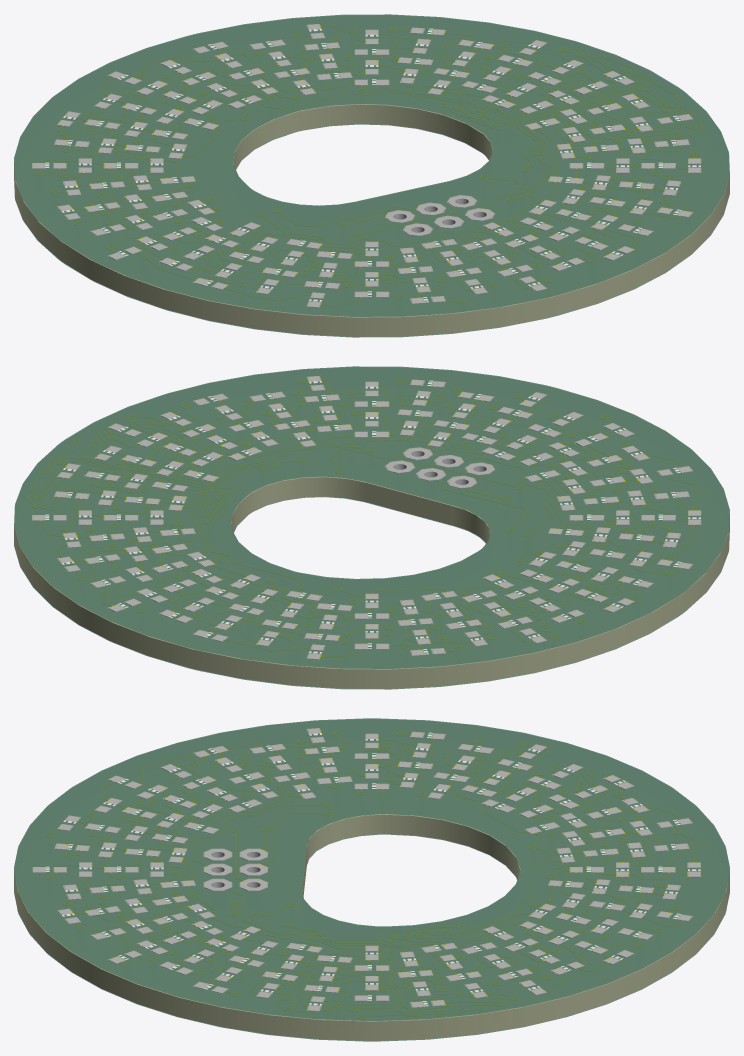
Rendered from do-or-donut-sao.glb.
3 renders of one model, top to bottom at view 1: azimuth 30°, elevation 25°; view 2: azimuth 150°, elevation 25°; view 3: azimuth 270°, elevation 25°, orthographic.
Visible parts, largest first — view 1: =>[0:1:1:7], =>[0:1:1:9], =>[0:1:1:2], =>[0:1:1:5]; view 2: =>[0:1:1:7], =>[0:1:1:9], =>[0:1:1:2], =>[0:1:1:5]; view 3: =>[0:1:1:7], =>[0:1:1:9], =>[0:1:1:2], =>[0:1:1:5].
Boxes of the visible parts, x1,y1,x2,y2 form: =>[0:1:1:7]: (14,14,729,337); =>[0:1:1:9]: (14,15,729,336); =>[0:1:1:2]: (33,24,702,307); =>[0:1:1:5]: (45,28,700,302); =>[0:1:1:7]: (14,366,729,689); =>[0:1:1:9]: (14,367,729,688); =>[0:1:1:2]: (27,376,700,659); =>[0:1:1:5]: (45,380,700,654); =>[0:1:1:7]: (14,718,729,1041); =>[0:1:1:9]: (14,719,729,1040); =>[0:1:1:2]: (33,728,699,1018); =>[0:1:1:5]: (45,732,700,1006).
Bounding box in the file's own units: 0.0508 × 0.00166 × 0.0508.
4 materials, 4 textured.
